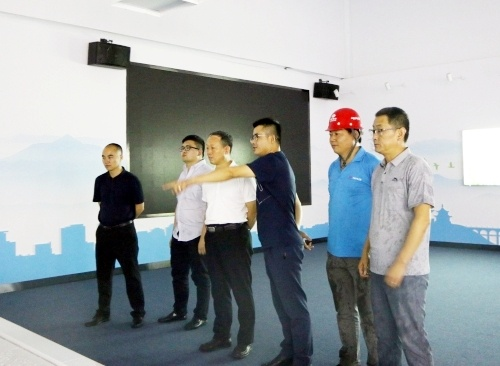none: (369, 105, 411, 157), (248, 117, 283, 157), (204, 128, 234, 166), (178, 134, 205, 167), (99, 142, 124, 172)
red: (324, 106, 365, 158)
